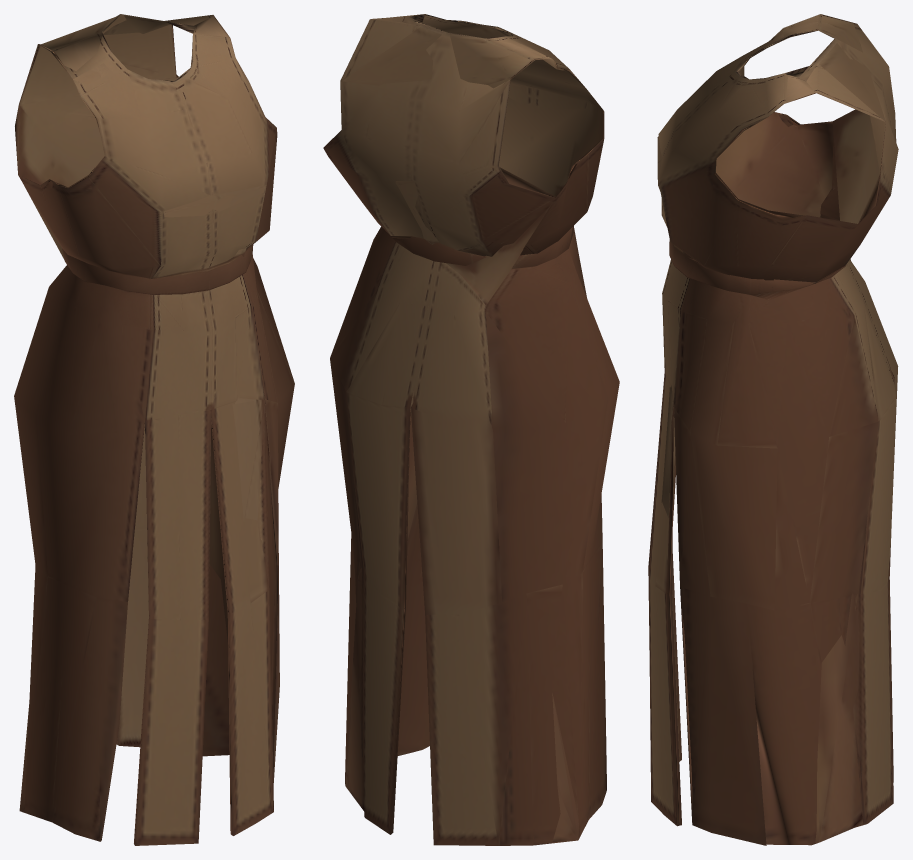
The model's file is chest-training.glb.
3 renders of one model, left to right at view 1: azimuth 30°, elevation 25°; view 2: azimuth 150°, elevation 25°; view 3: azimuth 270°, elevation 25°, orthographic. The views are drawn at different scales.
Parts seen in each view (by area): view 1: training_vest; view 2: training_vest; view 3: training_vest.
Boxes of the visible parts, box(x1,y1,x2,y2) form: training_vest: box(14, 14, 294, 845); training_vest: box(323, 14, 619, 845); training_vest: box(648, 14, 898, 845).
Bounding box in the file's own units: 0.462 × 1.37 × 0.4078.
Materials: 1 (1 with a texture image).
